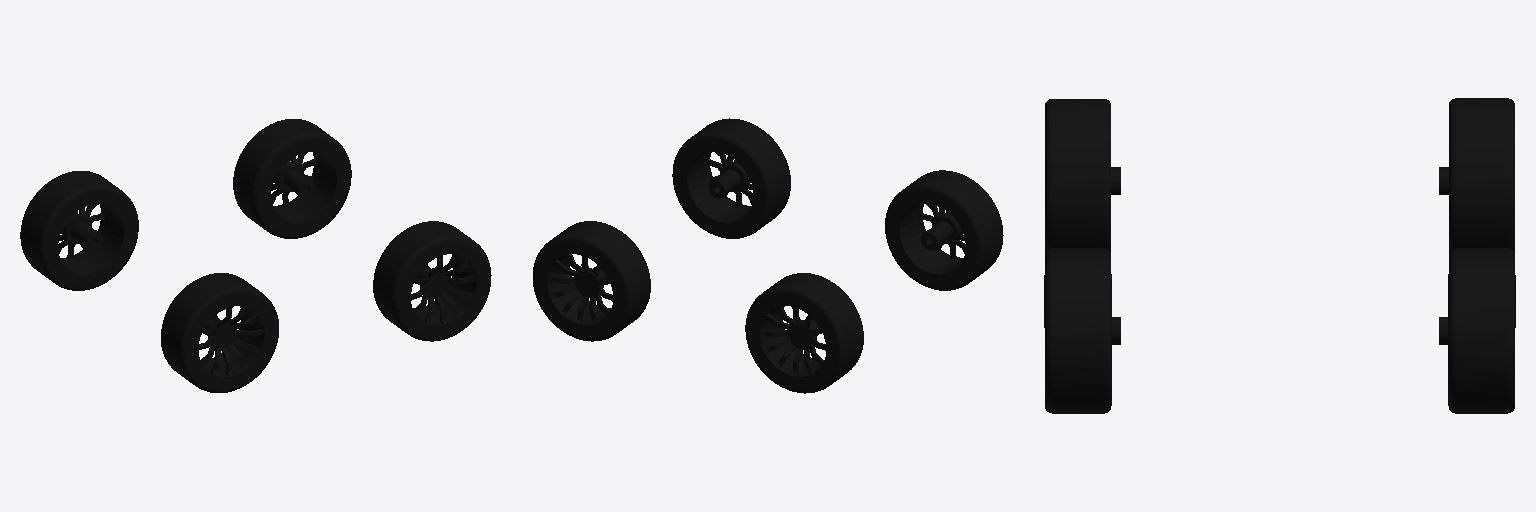
URDF robot description (NanoCarPro):
<?xml version="1.0" ?>
<!-- =================================================================================== -->
<!-- |    This document was autogenerated by xacro from nanocarpro_description.urdf.xacro | -->
<!-- |    EDITING THIS FILE BY HAND IS NOT RECOMMENDED                                 | -->
<!-- =================================================================================== -->
<robot name="NanoCarPro">
  <gazebo reference="/base_link">
    <material>Gazebo/DarkGrey</material>
  </gazebo>
  <gazebo reference="/front_left_wheel_link">
    <mu1>0.5</mu1>
    <mu2>0.5</mu2>
    <kp>500000.0</kp>
    <kd>10.0</kd>
    <minDepth>0.001</minDepth>
    <maxVel>1.0</maxVel>
    <fdir1>1 0 0</fdir1>
    <material>Gazebo/FlatBlack</material>
  </gazebo>
  <gazebo reference="/front_right_wheel_link">
    <mu1>0.5</mu1>
    <mu2>0.5</mu2>
    <kp>500000.0</kp>
    <kd>10.0</kd>
    <minDepth>0.001</minDepth>
    <maxVel>1.0</maxVel>
    <fdir1>1 0 0</fdir1>
    <material>Gazebo/FlatBlack</material>
  </gazebo>
  <gazebo reference="/back_left_wheel_link">
    <mu1>0.5</mu1>
    <mu2>0.5</mu2>
    <kp>500000.0</kp>
    <kd>10.0</kd>
    <minDepth>0.001</minDepth>
    <maxVel>1.0</maxVel>
    <fdir1>1 0 0</fdir1>
    <material>Gazebo/FlatBlack</material>
  </gazebo>
  <gazebo reference="/back_right_wheel_link">
    <mu1>0.5</mu1>
    <mu2>0.5</mu2>
    <kp>500000.0</kp>
    <kd>10.0</kd>
    <minDepth>0.001</minDepth>
    <maxVel>1.0</maxVel>
    <fdir1>1 0 0</fdir1>
    <material>Gazebo/FlatBlack</material>
  </gazebo>
  <gazebo>
    <plugin filename="libgazebo_ros_skid_steer_drive.so" name="skid_steer_drive_controller">
      <updateRate>100.0</updateRate>
      <!-- <robotNamespace>/</robotNamespace> -->
      <leftFrontJoint>front_left_wheel_joint</leftFrontJoint>
      <rightFrontJoint>front_right_wheel_joint</rightFrontJoint>
      <leftRearJoint>back_left_wheel_joint</leftRearJoint>
      <rightRearJoint>back_right_wheel_joint</rightRearJoint>
      <wheelSeparation>0.1745</wheelSeparation>
      <wheelDiameter>0.067</wheelDiameter>
      <robotBaseFrame>base_footprint</robotBaseFrame>
      <torque>20</torque>
      <commandTopic>cmd_vel</commandTopic>
      <odometryTopic>odom</odometryTopic>
      <odometryFrame>odom</odometryFrame>
      <covariance_x>0.0001</covariance_x>
      <covariance_y>0.0001</covariance_y>
      <covariance_yaw>0.0001</covariance_yaw>
      <broadcastTF>true</broadcastTF>
    </plugin>
  </gazebo>
  <gazebo reference="/imu">
    <sensor name="imu" type="imu">
      <always_on>true</always_on>
      <visualize>false</visualize>
    </sensor>
    <material>Gazebo/FlatBlack</material>
  </gazebo>
  <gazebo>
    <plugin filename="libgazebo_ros_imu.so" name="imu_plugin">
      <alwaysOn>true</alwaysOn>
      <bodyName>/imu</bodyName>
      <frameName>imu</frameName>
      <topicName>imu</topicName>
      <serviceName>imu_service</serviceName>
      <gaussianNoise>0.0</gaussianNoise>
      <updateRate>0</updateRate>
      <imu>
        <noise>
          <type>gaussian</type>
          <rate>
            <mean>0.0</mean>
            <stddev>2e-4</stddev>
            <bias_mean>0.0000075</bias_mean>
            <bias_stddev>0.0000008</bias_stddev>
          </rate>
          <accel>
            <mean>0.0</mean>
            <stddev>1.7e-2</stddev>
            <bias_mean>0.1</bias_mean>
            <bias_stddev>0.001</bias_stddev>
          </accel>
        </noise>
      </imu>
    </plugin>
  </gazebo>
  <gazebo reference="/base_laser_link">
    <material>Gazebo/FlatBlack</material>
    <sensor name="rplidar_sensor" type="ray">
      <pose>0 0 0 0 0 0</pose>
      <visualize>false</visualize>
      <update_rate>7</update_rate>
      <ray>
        <scan>
          <horizontal>
            <samples>720</samples>
            <resolution>0.5</resolution>
            <min_angle>0.0</min_angle>
            <max_angle>6.28319</max_angle>
          </horizontal>
        </scan>
        <range>
          <min>0.120</min>
          <max>12.0</max>
          <resolution>0.015</resolution>
        </range>
        <noise>
          <type>gaussian</type>
          <mean>0.0</mean>
          <stddev>0.01</stddev>
        </noise>
      </ray>
      <plugin filename="libgazebo_ros_laser.so" name="gazebo_ros_rplidar_controller">
        <topicName>scan</topicName>
        <frameName>base_laser_link</frameName>
      </plugin>
    </sensor>
  </gazebo>
  <gazebo reference="/base_camera_link">
    <sensor name="csi Camera" type="camera">
      <always_on>true</always_on>
      <visualize>false</visualize>
      <camera>
        <horizontal_fov>1.085595</horizontal_fov>
        <image>
          <width>640</width>
          <height>480</height>
          <format>R8G8B8</format>
        </image>
        <clip>
          <near>0.03</near>
          <far>100</far>
        </clip>
      </camera>
      <plugin filename="libgazebo_ros_camera.so" name="camera_controller">
        <alwaysOn>true</alwaysOn>
        <updateRate>30.0</updateRate>
        <cameraName>/</cameraName>
        <frameName>base_camera_link</frameName>
        <imageTopicName>image_raw</imageTopicName>
        <cameraInfoTopicName>camera_info</cameraInfoTopicName>
        <hackBaseline>0.07</hackBaseline>
        <distortionK1>0.0</distortionK1>
        <distortionK2>0.0</distortionK2>
        <distortionK3>0.0</distortionK3>
        <distortionT1>0.0</distortionT1>
        <distortionT2>0.0</distortionT2>
      </plugin>
    </sensor>
  </gazebo>
  <gazebo reference="/camera_link">
    <sensor name="ir Camera" type="depth">
      <update_rate>20</update_rate>
      <camera>
        <horizontal_fov>1.047198</horizontal_fov>
        <image>
          <width>640</width>
          <height>480</height>
          <format>R8G8B8</format>
        </image>
        <clip>
          <near>0.05</near>
          <far>3</far>
        </clip>
      </camera>
      <plugin filename="libgazebo_ros_openni_kinect.so" name="ir_camera_controller">
        <baseline>0.2</baseline>
        <alwaysOn>true</alwaysOn>
        <updateRate>1.0</updateRate>
        <cameraName>camera_ir</cameraName>
        <imageTopicName>//camera/color/image_raw</imageTopicName>
        <cameraInfoTopicName>//camera/color/camera_info</cameraInfoTopicName>
        <depthImageTopicName>//camera/depth/image_raw</depthImageTopicName>
        <depthImageInfoTopicName>//camera/depth/camera_info</depthImageInfoTopicName>
        <pointCloudTopicName>//camera/depth/points</pointCloudTopicName>
        <frameName>camera_link</frameName>
        <pointCloudCutoff>0.5</pointCloudCutoff>
        <pointCloudCutoffMax>3.0</pointCloudCutoffMax>
        <distortionK1>0.00000001</distortionK1>
        <distortionK2>0.00000001</distortionK2>
        <distortionK3>0.00000001</distortionK3>
        <distortionT1>0.00000001</distortionT1>
        <distortionT2>0.00000001</distortionT2>
        <CxPrime>0</CxPrime>
        <Cx>0</Cx>
        <Cy>0</Cy>
        <focalLength>0</focalLength>
        <hackBaseline>0</hackBaseline>
      </plugin>
    </sensor>
  </gazebo>
  <link name="/base_footprint"/>
  <joint name="base_joint" type="fixed">
    <parent link="/base_footprint"/>
    <child link="/base_link"/>
    <origin rpy="0 0 0" xyz="0.0 0.0 0.0157"/>
  </joint>
  <link name="/base_link">
    <inertial>
      <origin rpy="0 0 0" xyz="0.072991 0.00046853 0.039966"/>
      <mass value="0.45437"/>
      <inertia ixx="0.00029844" ixy="-4.3951E-06" ixz="-2.191E-06" iyy="0.00043198" iyz="3.005E-07" izz="0.00068218"/>
    </inertial>
    <visual>
      <origin rpy="0 0 0" xyz="0 0 0"/>
      <geometry>
        <mesh filename="../meshes/base_link.obj"/>
      </geometry>
      <material name="">
        <color rgba="1 1 1 1"/>
      </material>
    </visual>
    <collision>
      <origin rpy="0 0 0" xyz="0 0 0"/>
      <geometry>
        <mesh filename="../meshes/base_link.obj"/>
      </geometry>
    </collision>
  </link>
  <link name="/front_left_wheel_link">
    <inertial>
      <origin rpy="0 0 0" xyz="-1.914E-05 -4.1633E-16 -0.0055056"/>
      <mass value="0.056134"/>
      <inertia ixx="2.4529E-05" ixy="1.012E-19" ixz="6.1905E-08" iyy="2.4528E-05" iyz="1.0409E-17" izz="4.2335E-05"/>
    </inertial>
    <visual>
      <origin rpy="0 0 0" xyz="0 0 0"/>
      <geometry>
        <mesh filename="../meshes/front_left_wheel_link.obj"/>
      </geometry>
      <material name="">
        <color rgba="0.1098 0.1098 0.1098 1"/>
      </material>
    </visual>
    <collision>
      <origin rpy="0 0 0" xyz="0 0 0"/>
      <geometry>
        <mesh filename="../meshes/front_left_wheel_link.obj"/>
      </geometry>
    </collision>
  </link>
  <joint name="front_left_wheel_joint" type="continuous">
    <origin rpy="-1.5708 0 0" xyz="0.14338 0.08725 0.0179"/>
    <parent link="/base_link"/>
    <child link="/front_left_wheel_link"/>
    <axis xyz="0 1 0"/>
  </joint>
  <link name="/front_right_wheel_link">
    <inertial>
      <origin rpy="0 0 0" xyz="-1.914E-05 -4.1633E-16 -0.0055056"/>
      <mass value="0.056134"/>
      <inertia ixx="2.4529E-05" ixy="1.012E-19" ixz="6.1905E-08" iyy="2.4528E-05" iyz="1.0409E-17" izz="4.2335E-05"/>
    </inertial>
    <visual>
      <origin rpy="0 0 0" xyz="0 0 0"/>
      <geometry>
        <mesh filename="../meshes/front_right_wheel_link.obj"/>
      </geometry>
      <material name="">
        <color rgba="0.1098 0.1098 0.1098 1"/>
      </material>
    </visual>
    <collision>
      <origin rpy="0 0 0" xyz="0 0 0"/>
      <geometry>
        <mesh filename="../meshes/front_right_wheel_link.obj"/>
      </geometry>
    </collision>
  </link>
  <joint name="front_right_wheel_joint" type="continuous">
    <origin rpy="-1.5708 0 -3.1416" xyz="0.14338 -0.08725 0.0179"/>
    <parent link="/base_link"/>
    <child link="/front_right_wheel_link"/>
    <axis xyz="0 1 0"/>
  </joint>
  <link name="/back_left_wheel_link">
    <inertial>
      <origin rpy="0 0 0" xyz="-1.914E-05 -4.1633E-16 -0.0055056"/>
      <mass value="0.056134"/>
      <inertia ixx="2.4529E-05" ixy="1.012E-19" ixz="6.1905E-08" iyy="2.4528E-05" iyz="1.0409E-17" izz="4.2335E-05"/>
    </inertial>
    <visual>
      <origin rpy="0 0 0" xyz="0 0 0"/>
      <geometry>
        <mesh filename="../meshes/back_left_wheel_link.obj"/>
      </geometry>
      <material name="">
        <color rgba="0.1098 0.1098 0.1098 1"/>
      </material>
    </visual>
    <collision>
      <origin rpy="0 0 0" xyz="0 0 0"/>
      <geometry>
        <mesh filename="../meshes/back_left_wheel_link.obj"/>
      </geometry>
    </collision>
  </link>
  <joint name="back_left_wheel_joint" type="continuous">
    <origin rpy="-1.5708 0 0" xyz="-0.00015 0.08725 0.0179"/>
    <parent link="/base_link"/>
    <child link="/back_left_wheel_link"/>
    <axis xyz="0 0 1"/>
  </joint>
  <link name="/back_right_wheel_link">
    <inertial>
      <origin rpy="0 0 0" xyz="-1.914E-05 -4.1633E-16 -0.0055056"/>
      <mass value="0.056134"/>
      <inertia ixx="2.4529E-05" ixy="1.012E-19" ixz="6.1905E-08" iyy="2.4528E-05" iyz="1.0409E-17" izz="4.2335E-05"/>
    </inertial>
    <visual>
      <origin rpy="0 0 0" xyz="0 0 0"/>
      <geometry>
        <mesh filename="../meshes/back_right_wheel_link.obj"/>
      </geometry>
      <material name="">
        <color rgba="0.1098 0.1098 0.1098 1"/>
      </material>
    </visual>
    <collision>
      <origin rpy="0 0 0" xyz="0 0 0"/>
      <geometry>
        <mesh filename="../meshes/back_right_wheel_link.obj"/>
      </geometry>
    </collision>
  </link>
  <joint name="back_right_wheel_joint" type="continuous">
    <origin rpy="-1.5708 0 3.1416" xyz="0.00015 -0.08725 0.0179"/>
    <parent link="/base_link"/>
    <child link="/back_right_wheel_link"/>
    <axis xyz="0 0 -1"/>
  </joint>
  <!-- laser -->
  <link name="/base_laser_link"/>
  <joint name="laser_joint" type="fixed">
    <origin rpy="0 0 3.1416" xyz="0.11449 0 0.141"/>
    <parent link="/base_link"/>
    <child link="/base_laser_link"/>
    <axis xyz="0 0 0"/>
  </joint>
  <!-- rgb camera -->
  <link name="/base_camera_link"/>
  <joint name="camera_joint" type="fixed">
    <origin rpy="0 0 0" xyz="0.15917 0.019164 0.073"/>
    <parent link="/base_link"/>
    <child link="/base_camera_link"/>
    <axis xyz="0 0 0"/>
  </joint>
  <!-- imu -->
  <link name="/imu"/>
  <joint name="imu_joint" type="fixed">
    <origin rpy="0 0 0" xyz="0.0653 -0.0275 0.07671"/>
    <parent link="/base_link"/>
    <child link="/imu"/>
    <axis xyz="0 0 0"/>
  </joint>
  <!-- ir camera -->
  <link name="/camera_link"/>
  <joint name="ir_camera_joint" type="fixed">
    <origin rpy="0 0 0" xyz="0.15917 0.039164 0.073"/>
    <parent link="/base_link"/>
    <child link="/camera_link"/>
    <axis xyz="0 0 0"/>
  </joint>
</robot>

--- Facts derived from the render (not from the file) ---
Views: 3 orthographic renders of the robot side by side, from view 1: azimuth 30°, elevation 25°; view 2: azimuth 150°, elevation 25°; view 3: azimuth 270°, elevation 25°.
Robot: NanoCarPro — 10 links, 9 joints (4 continuous, 5 fixed); root link /base_footprint; default pose: every joint at zero.
Visible links, largest first — view 1: /front_left_wheel_link, /front_right_wheel_link, /back_right_wheel_link, /back_left_wheel_link; view 2: /front_right_wheel_link, /back_right_wheel_link, /back_left_wheel_link, /front_left_wheel_link; view 3: /front_left_wheel_link, /front_right_wheel_link, /back_left_wheel_link, /back_right_wheel_link.
Link boxes in pixels (x1=…): /front_left_wheel_link: x1=233, y1=119, x2=351, y2=238; /front_right_wheel_link: x1=373, y1=221, x2=491, y2=341; /back_right_wheel_link: x1=161, y1=273, x2=278, y2=392; /back_left_wheel_link: x1=20, y1=171, x2=138, y2=290; /front_right_wheel_link: x1=672, y1=118, x2=790, y2=238; /back_right_wheel_link: x1=885, y1=170, x2=1003, y2=290; /back_left_wheel_link: x1=745, y1=273, x2=863, y2=393; /front_left_wheel_link: x1=533, y1=221, x2=650, y2=341; /front_left_wheel_link: x1=1439, y1=248, x2=1515, y2=413; /front_right_wheel_link: x1=1044, y1=248, x2=1120, y2=413; /back_left_wheel_link: x1=1439, y1=98, x2=1514, y2=251; /back_right_wheel_link: x1=1045, y1=99, x2=1120, y2=251.
Bounding box of the posed robot: 0.2105 × 0.1907 × 0.067 m (x, y, z).
4 mesh visuals loaded from 5 distinct referenced files (4 OBJ); not drawn: 1 (reference not matched to a file when rendering).
